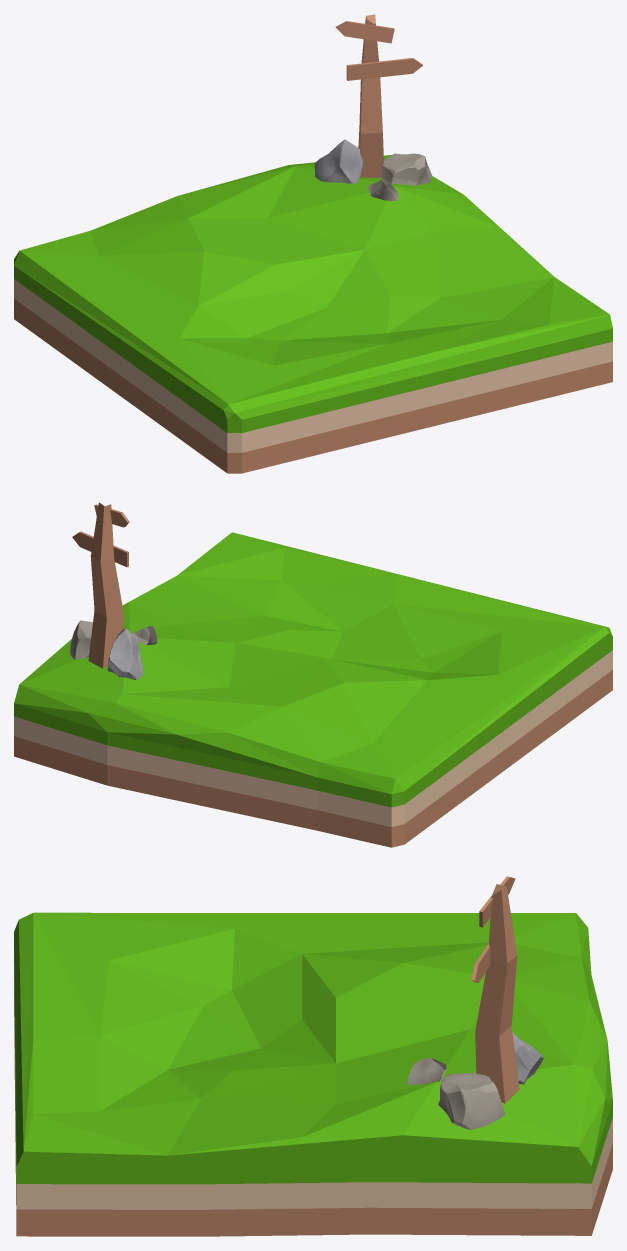
The model's file is 3_Plain.fbx.
The picture shows the model from 3 angles, top to bottom: view 1: azimuth 30°, elevation 25°; view 2: azimuth 150°, elevation 25°; view 3: azimuth 270°, elevation 25°; orthographic projection. The views are drawn at different scales.
Visible parts, largest first — view 1: Object022; view 2: Object022; view 3: Object022.
Boxes of the visible parts, <box> form: Object022: <box>14,14,612,473</box>; Object022: <box>14,502,612,847</box>; Object022: <box>14,876,612,1236</box>.
Size of the model in its own units: 0.8992 by 0.5425 by 0.9351.
